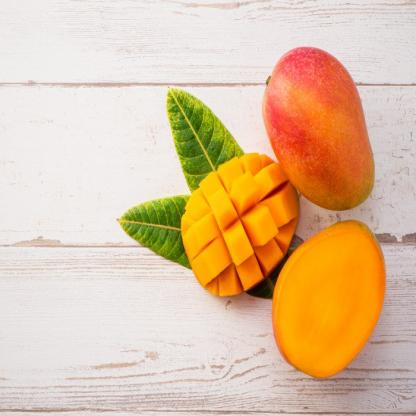--: (257, 47, 386, 221), (265, 208, 389, 389), (174, 145, 300, 295)
